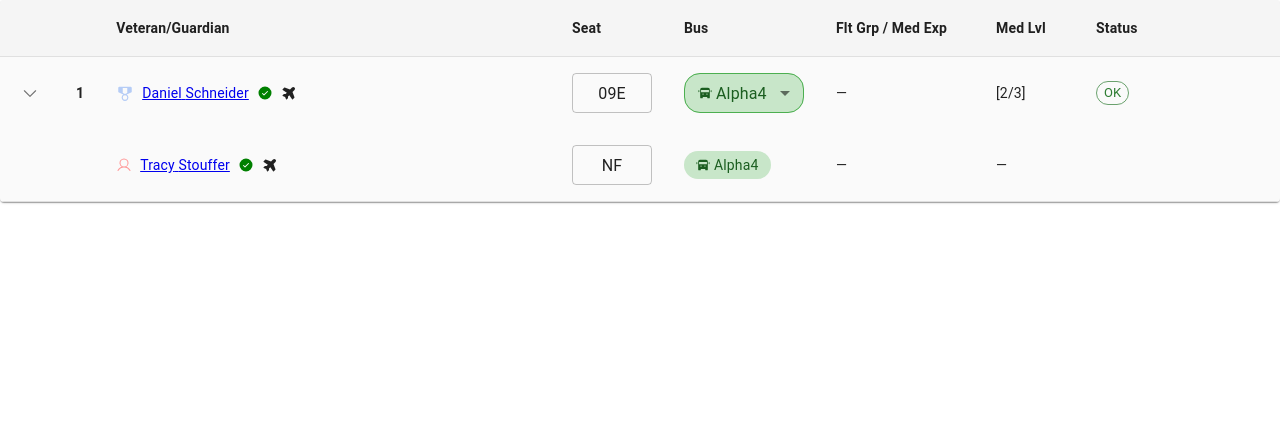
FlightDetailsGrid - Med Lvl column (issue #264) › keeps the full med limits text in the row expansion
This screenshot has width=1280, height=433.
What coordinates should you click on to do the following:
click the button named "expand row"
I would click on:
 (30, 93)
Its box is [16,79,44,107].
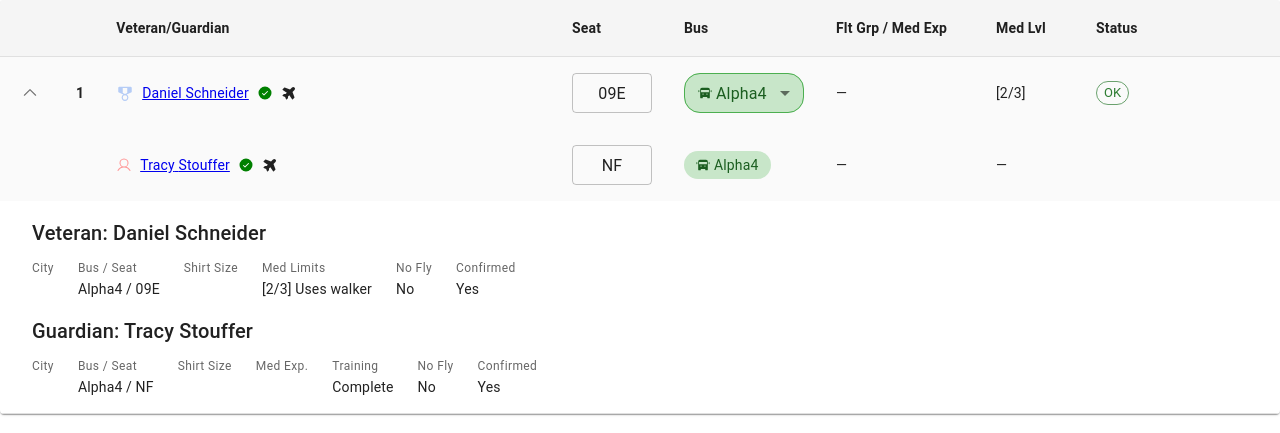
Now the text "[2/3] Uses walker" is shown, box [262,279,372,299]
